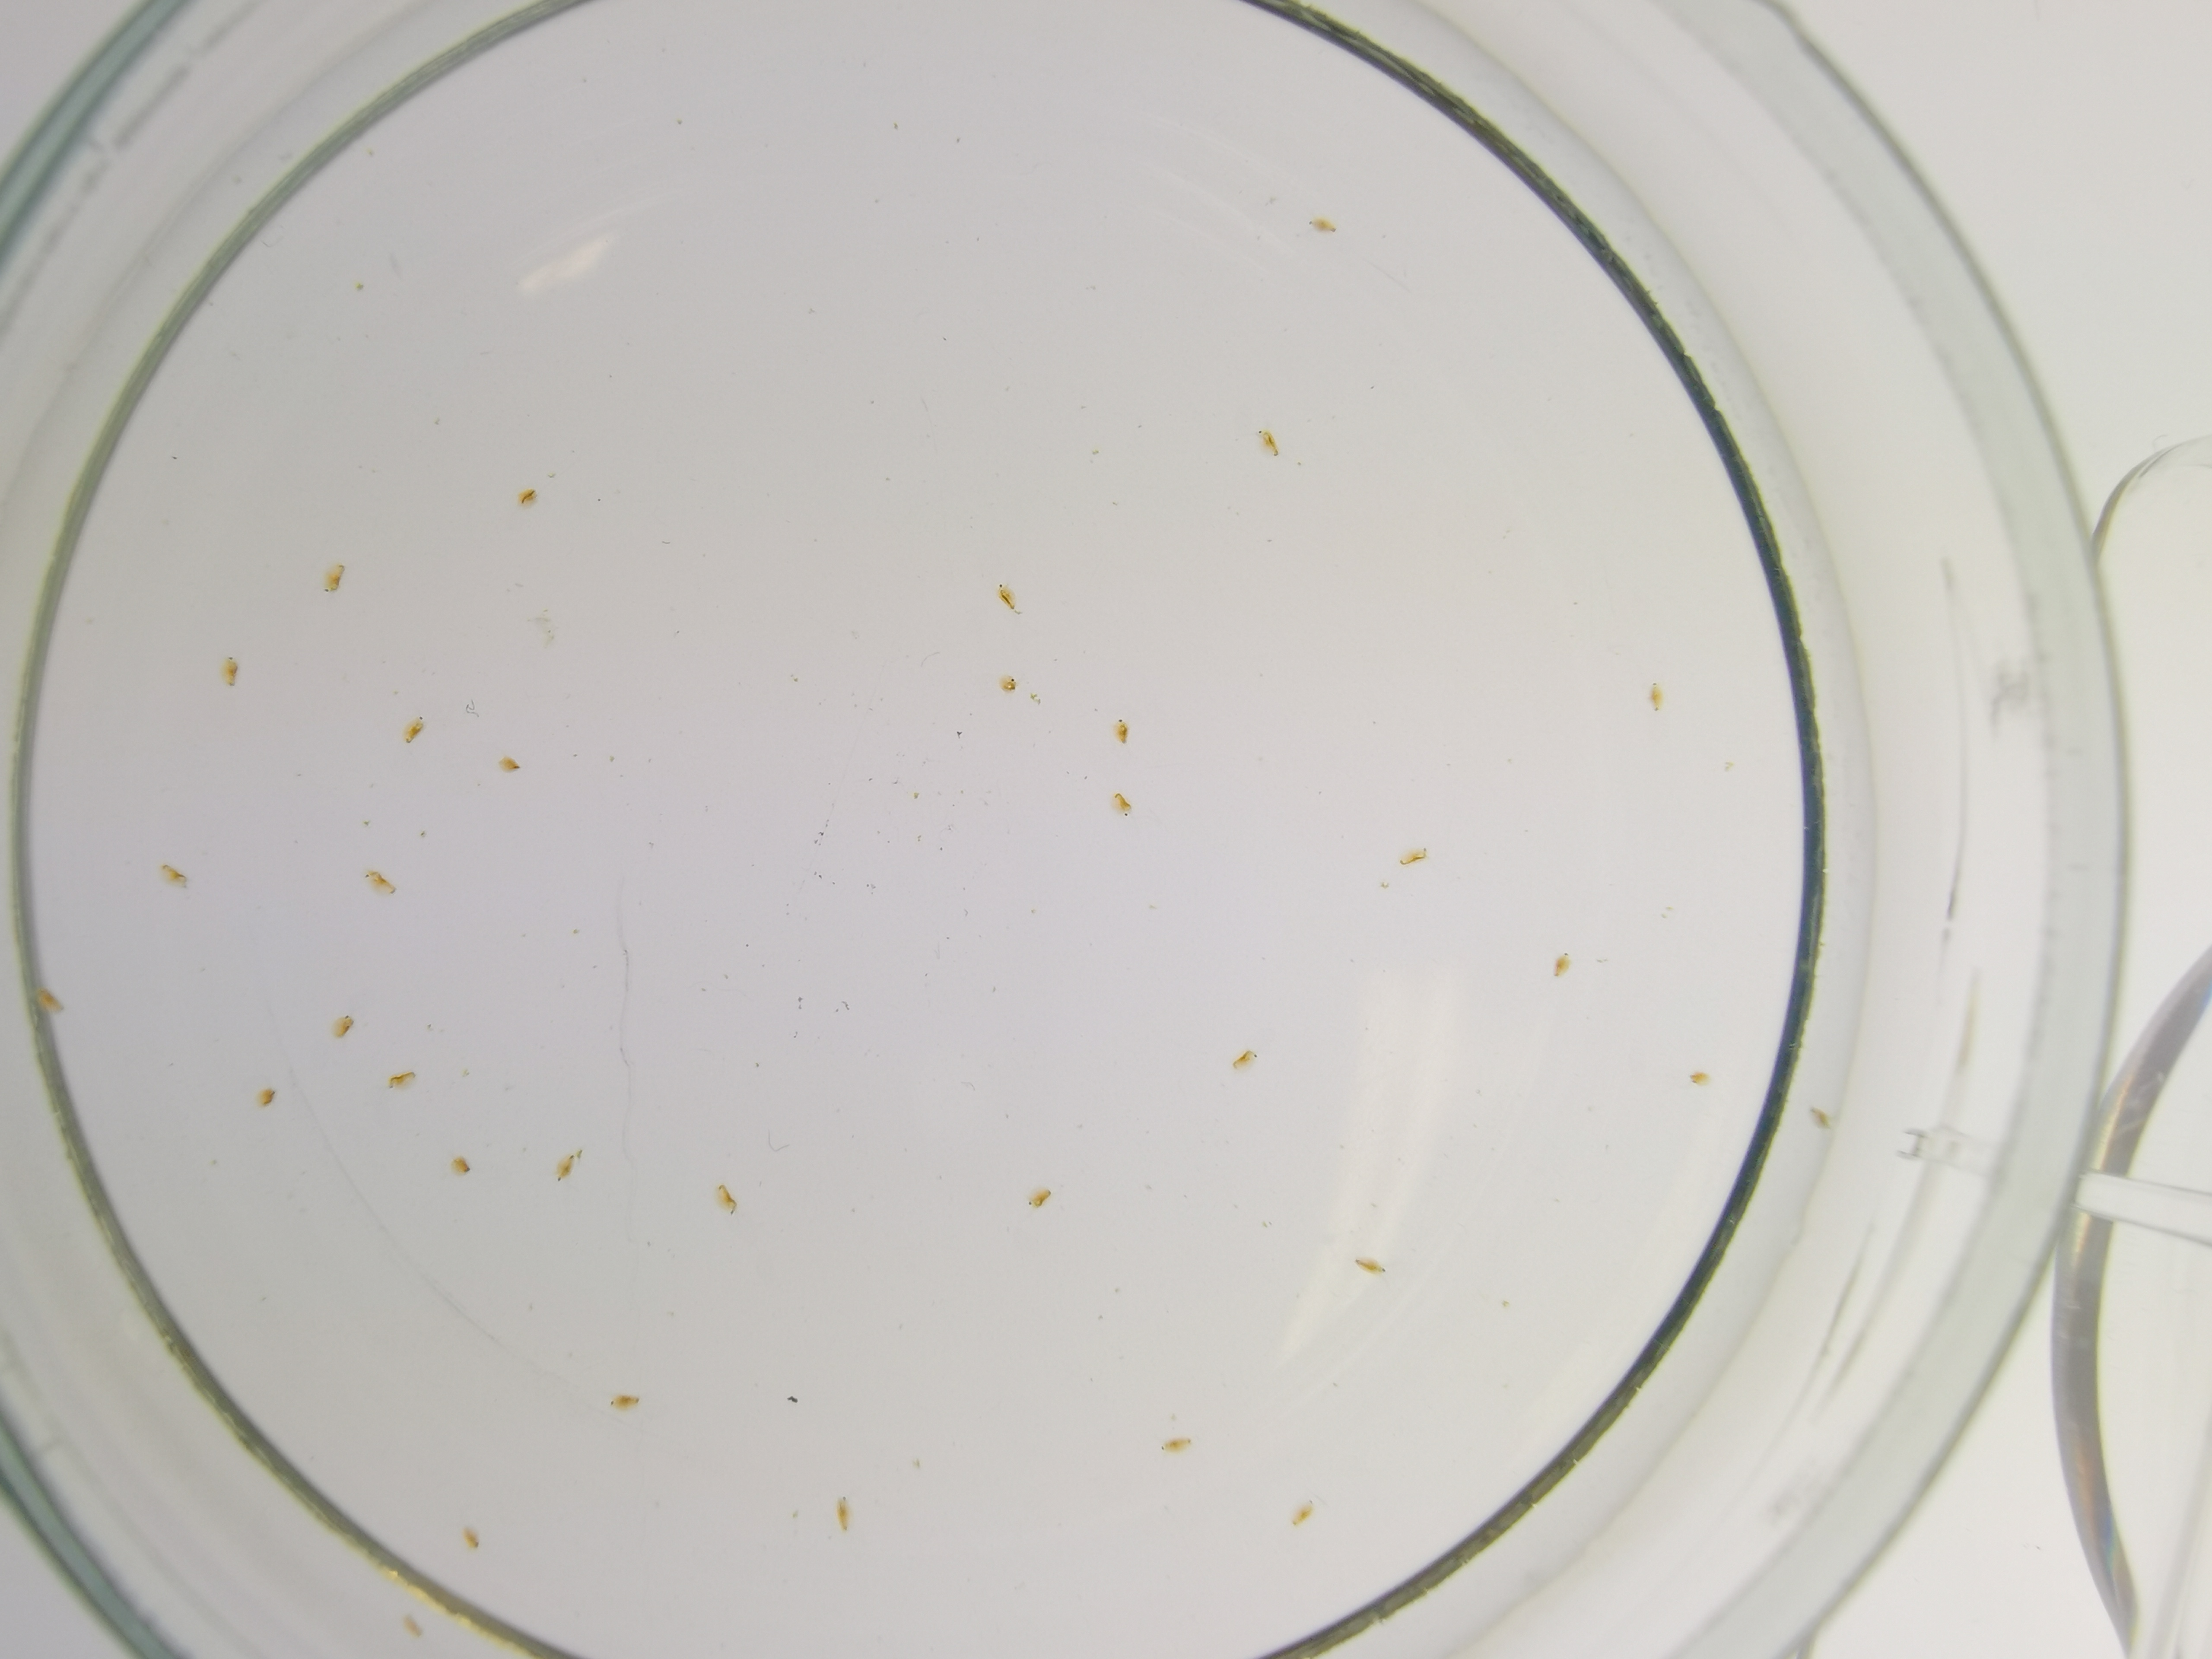D.magna: (995, 580, 1024, 617), (33, 985, 66, 1016), (364, 868, 399, 897), (160, 863, 192, 892), (716, 1183, 740, 1218), (834, 1493, 855, 1534), (1352, 1255, 1388, 1277), (1109, 788, 1136, 819), (385, 1068, 418, 1093), (1256, 427, 1280, 460), (1228, 1046, 1259, 1070), (1397, 845, 1430, 868), (1289, 1497, 1315, 1525), (460, 1523, 484, 1553), (324, 563, 347, 592), (554, 1154, 577, 1183), (253, 1084, 279, 1108), (1550, 951, 1575, 978), (1160, 1434, 1193, 1453), (221, 655, 242, 685), (331, 1014, 355, 1039), (402, 716, 423, 744), (1026, 1187, 1054, 1208), (608, 1394, 641, 1412), (496, 753, 521, 775), (1306, 216, 1338, 234), (1649, 680, 1665, 713), (1113, 718, 1132, 744), (451, 1155, 474, 1176), (996, 673, 1017, 694), (1688, 1070, 1712, 1087), (519, 488, 536, 507)
